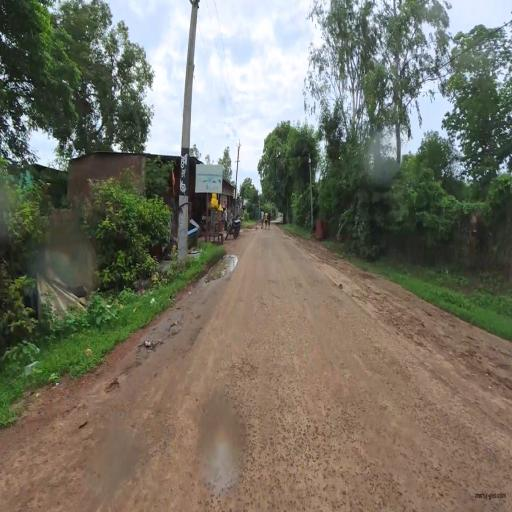edge_damage: (254, 355, 396, 510)
